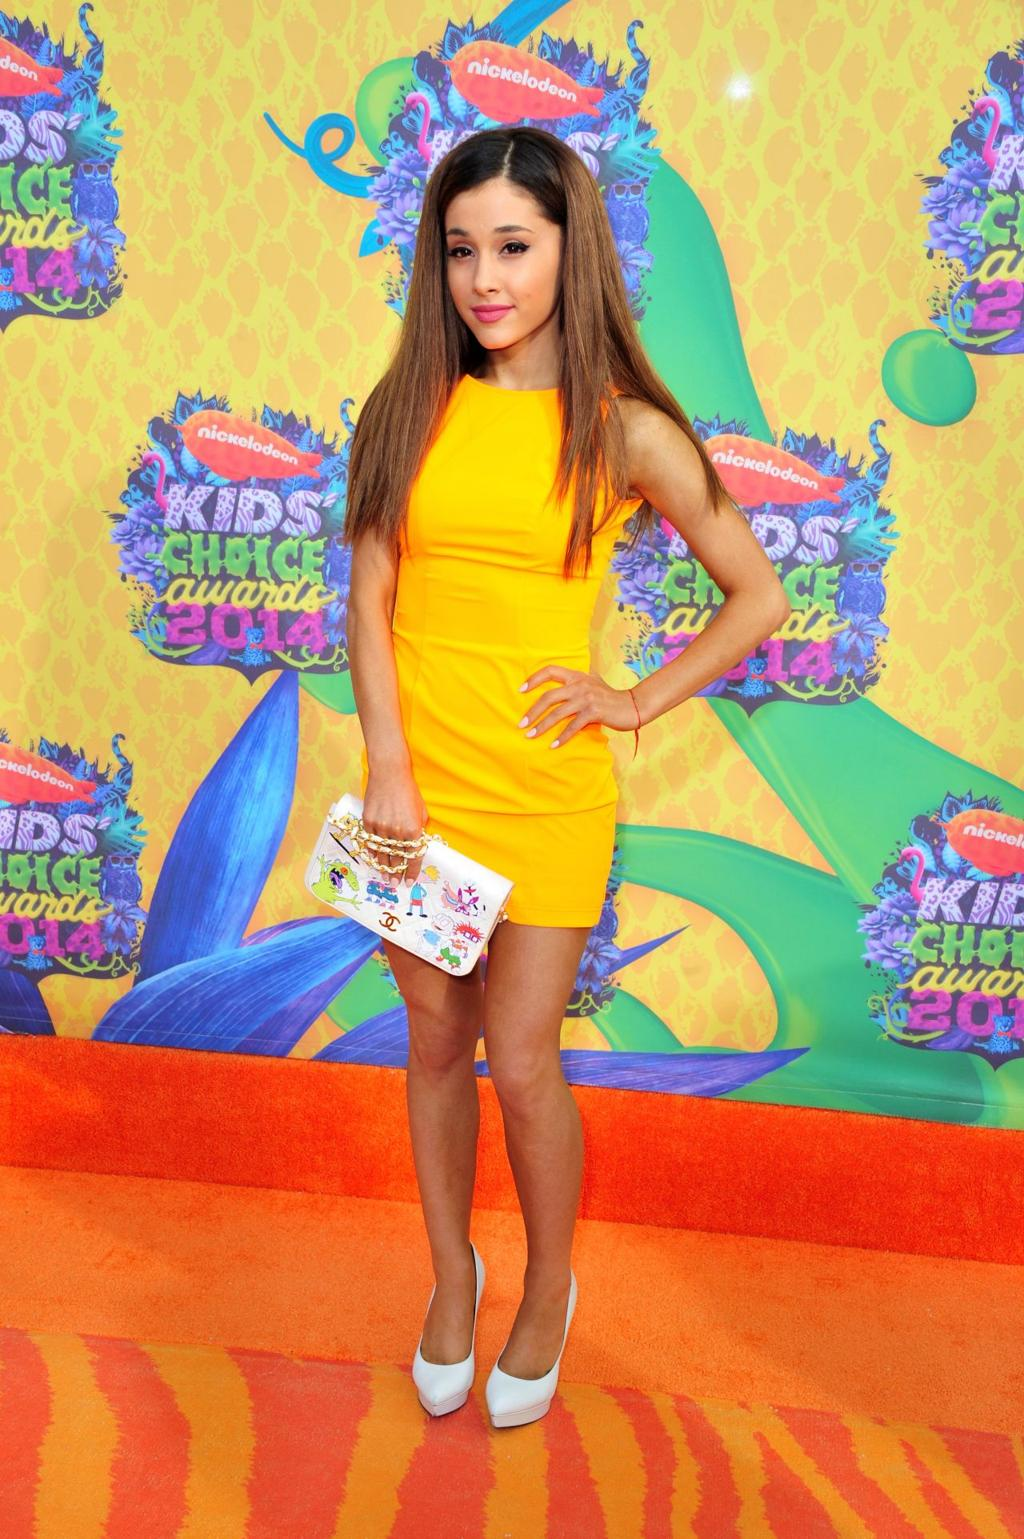face: (441, 180, 558, 348)
